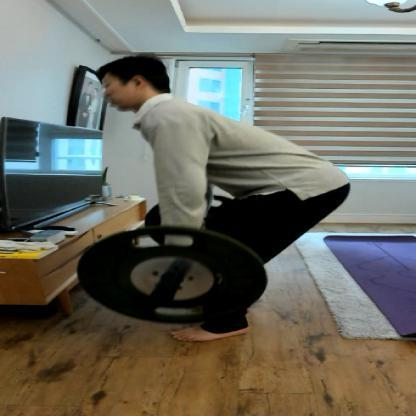barbell: (75, 191, 268, 327)
